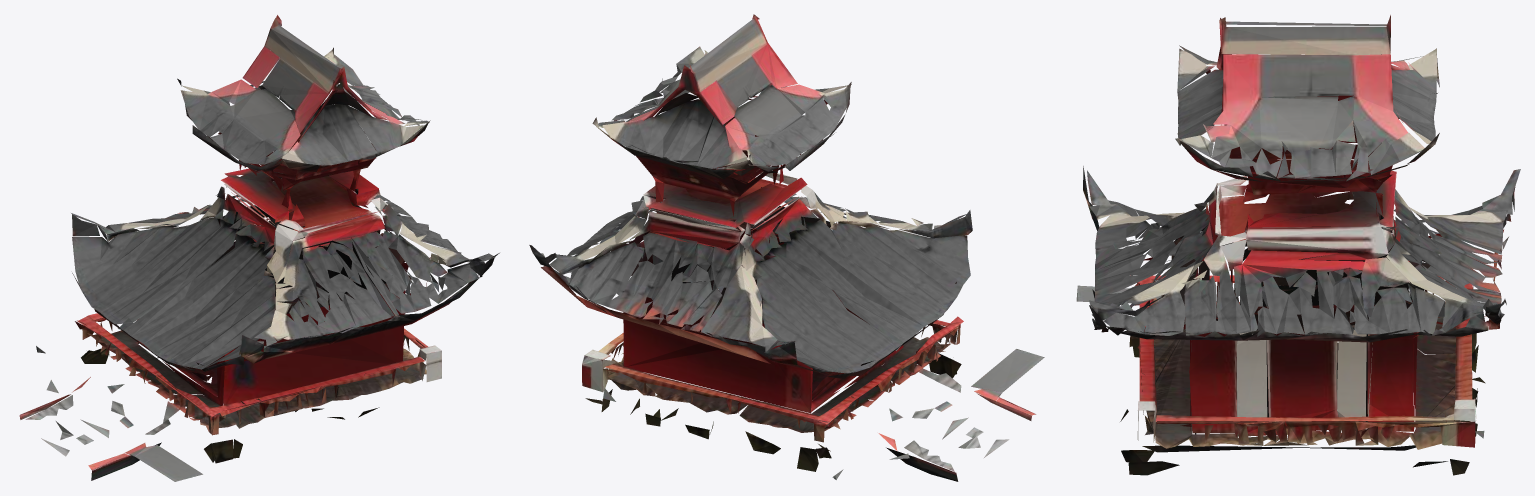
The model's file is pagoda.glb.
The picture shows the model from 3 angles, left to right: view 1: azimuth 30°, elevation 25°; view 2: azimuth 150°, elevation 25°; view 3: azimuth 270°, elevation 25°; orthographic projection. The views are drawn at different scales.
Visible parts, largest first — view 1: geometry_0; view 2: geometry_0; view 3: geometry_0.
Part boxes in pixels (<box>): geometry_0: <box>19,15,499,481</box>; geometry_0: <box>529,14,1044,481</box>; geometry_0: <box>1076,15,1520,475</box>.
Bounding box in the file's own units: 0.9037 × 0.8119 × 0.743.
1 material, 1 textured.
